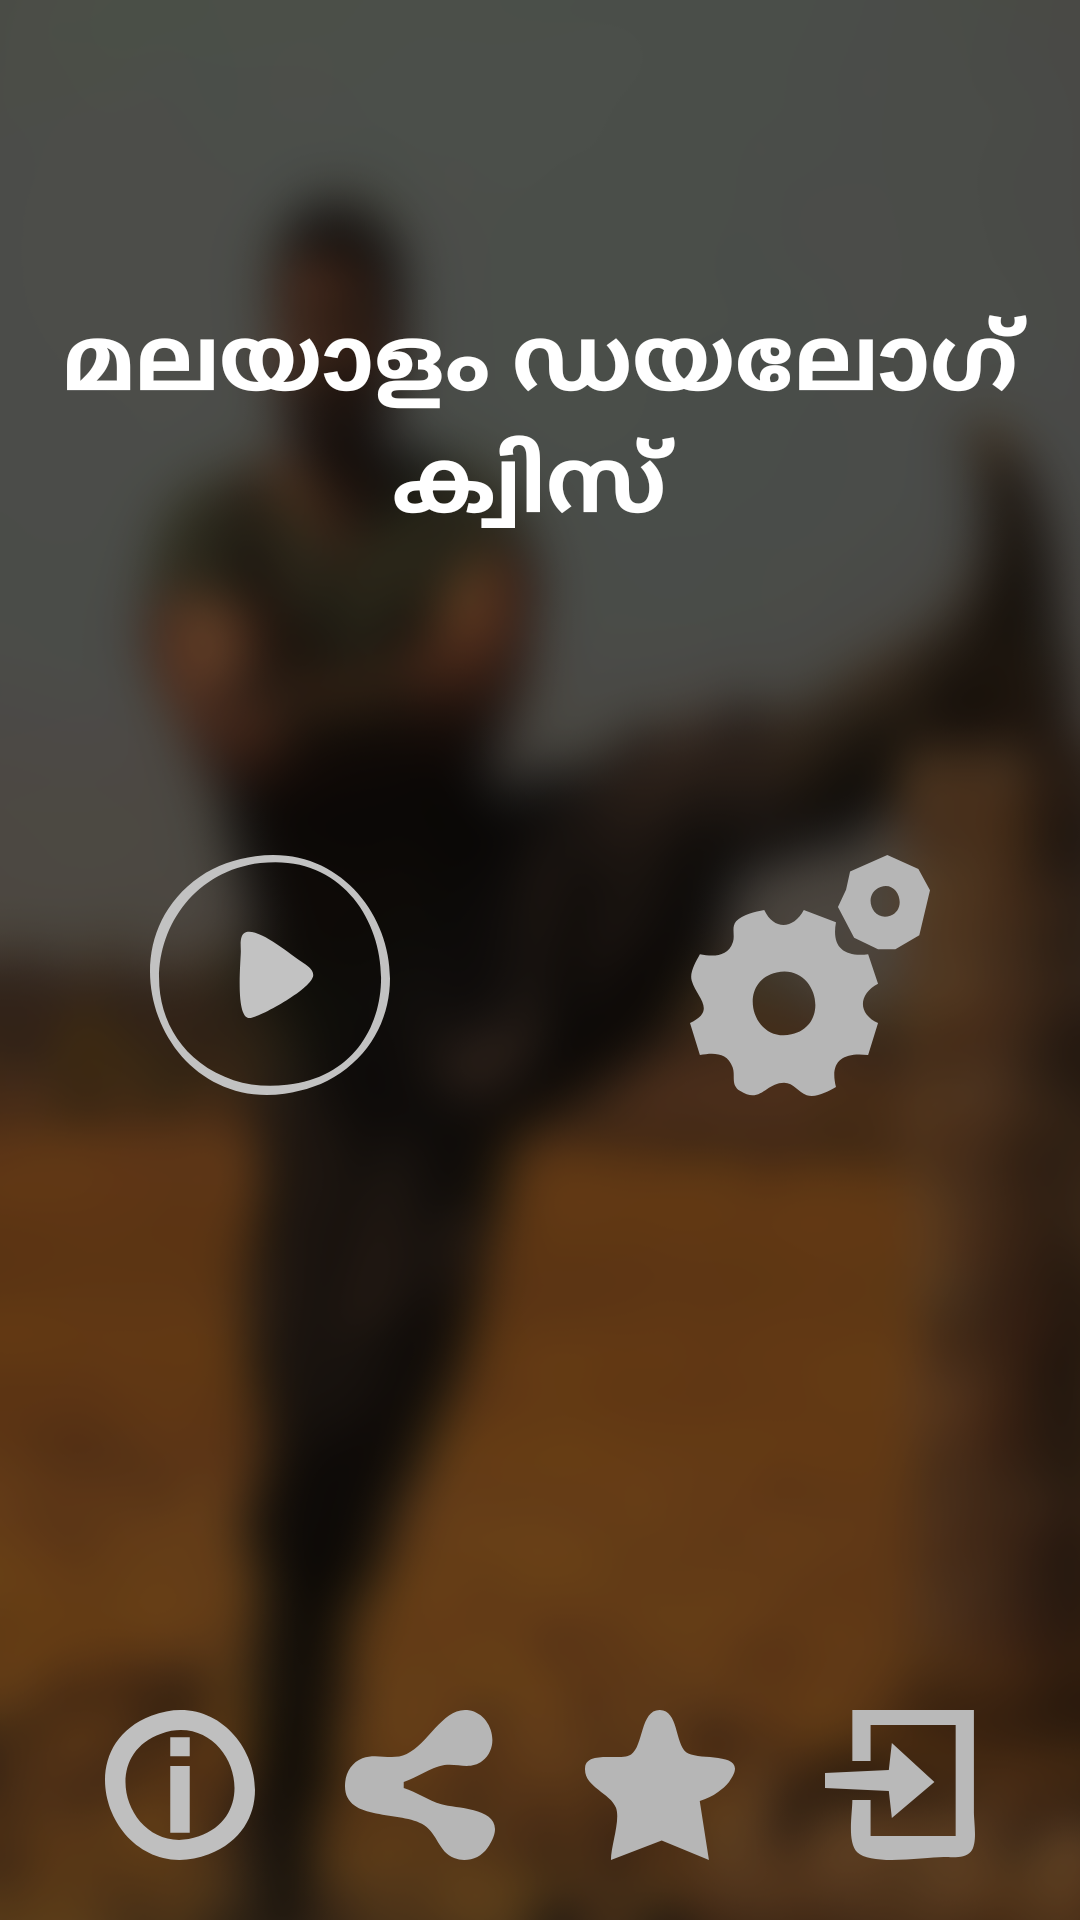

Icon click points for this 1080×1920 phone screenshot, format (x,y):
credits: (202,1785)
exit: (900,1785)
rate: (660,1785)
share: (420,1785)
